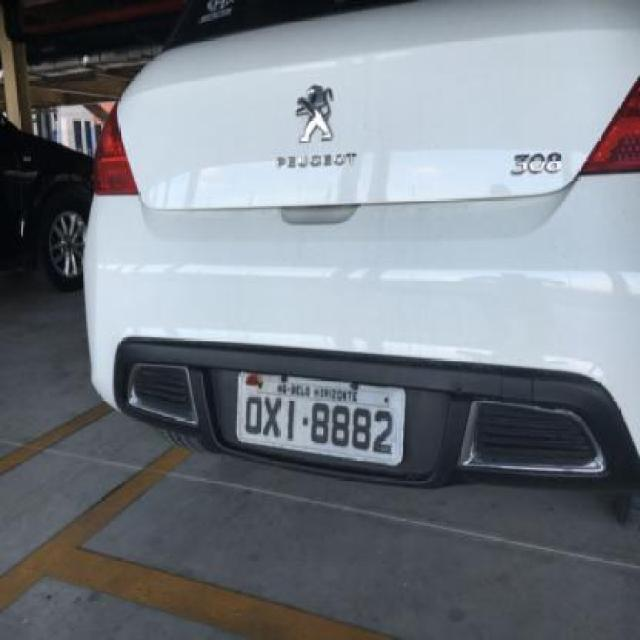old_plate: (231, 367, 410, 471)
